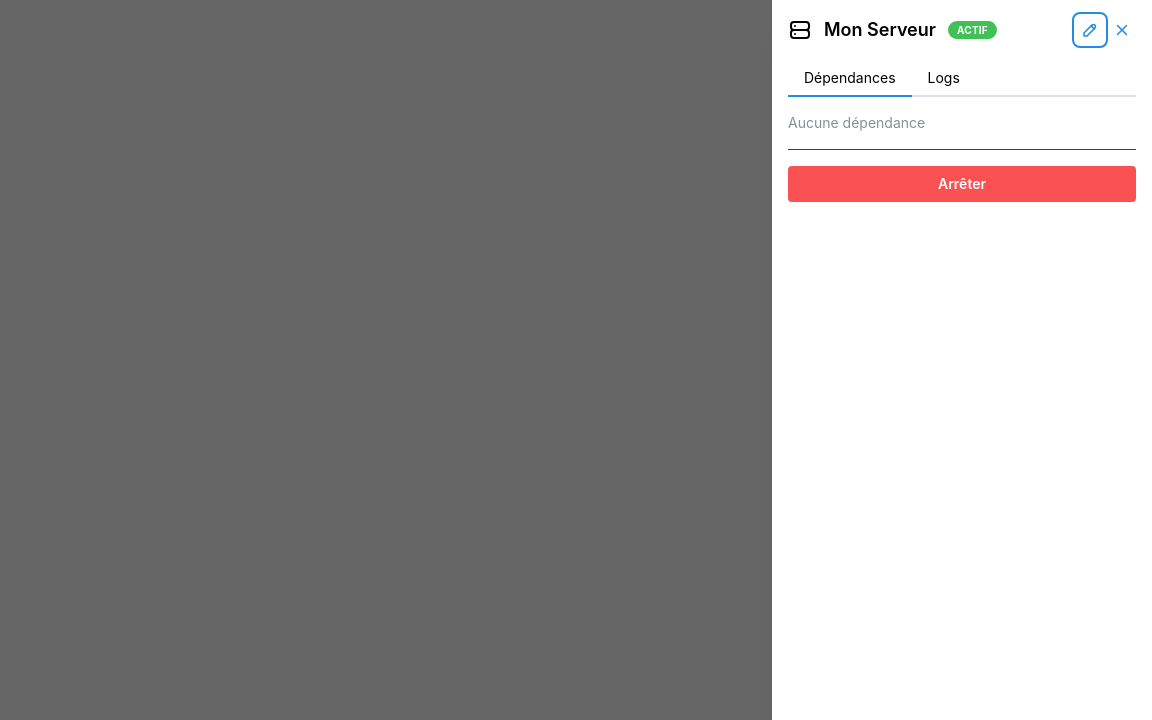
Test: ServiceDetailPanel › should open stop confirmation modal when "Arrêter" is clicked
Click the button with aria-label "Arrêter Mon Serveur" at (962,184), box [788,166,1136,202]
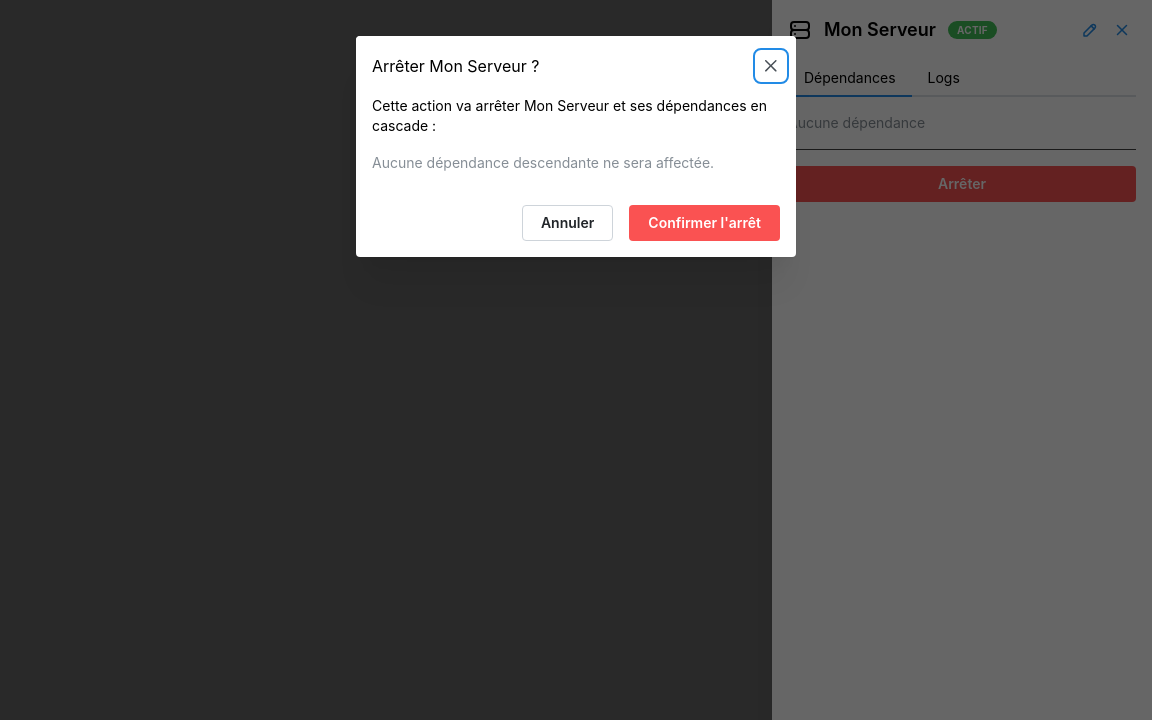
Expected: the button "Confirmer l'arrêt" is shown, [629,205,780,241]
Expected: the text "Cette action va arrêter" is shown, [372,97,524,114]
